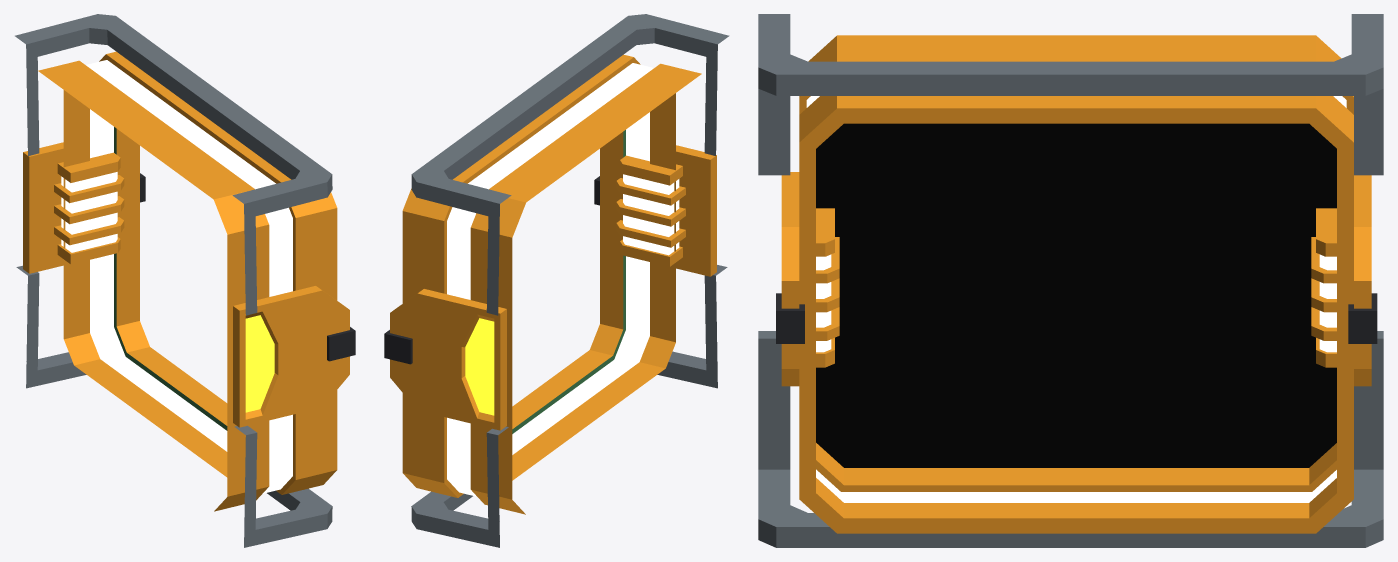
The model's file is SM_Conveyor_output.glb.
3 views of the same model, side by side, from view 1: azimuth 30°, elevation 25°; view 2: azimuth 150°, elevation 25°; view 3: azimuth 270°, elevation 25° (orthographic). The views are drawn at different scales.
Visible parts, largest first — view 1: SM_Conveyor_output; view 2: SM_Conveyor_output; view 3: SM_Conveyor_output.
Boxes of the visible parts, box(x1,y1,x2,y2) form: SM_Conveyor_output: box(15, 14, 355, 547); SM_Conveyor_output: box(384, 14, 729, 547); SM_Conveyor_output: box(758, 14, 1383, 547).
Bounding box in the file's own units: 0.4408 × 1.22 × 1.47.
Materials: 3 (1 with a texture image).
